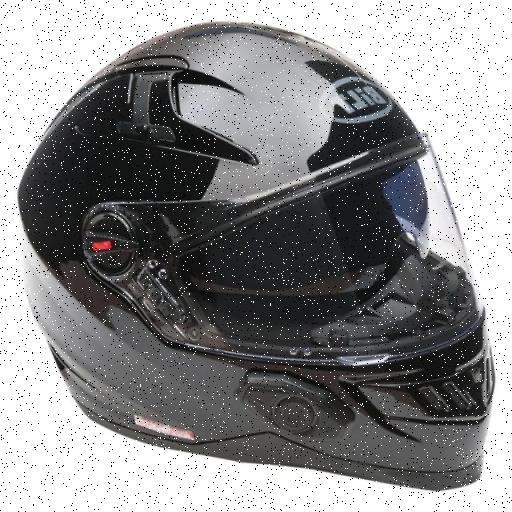Helmet: (0, 40, 497, 503)
